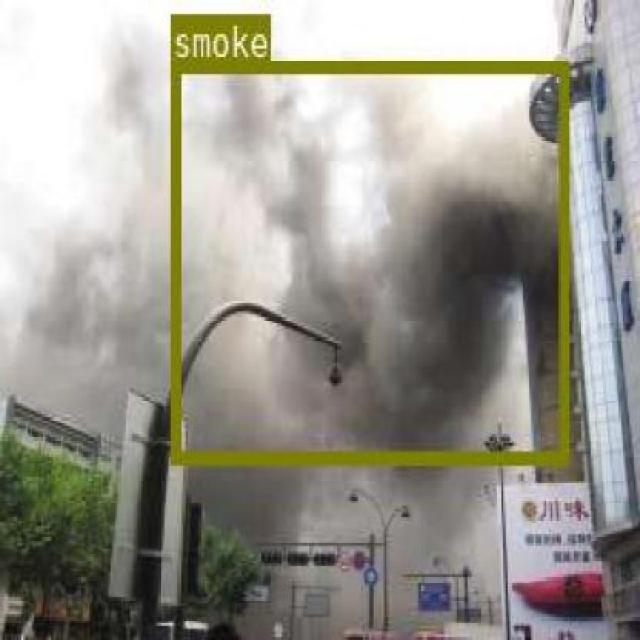Smoke: (169, 58, 566, 460), (25, 234, 149, 405), (416, 472, 493, 558), (213, 474, 317, 530)
